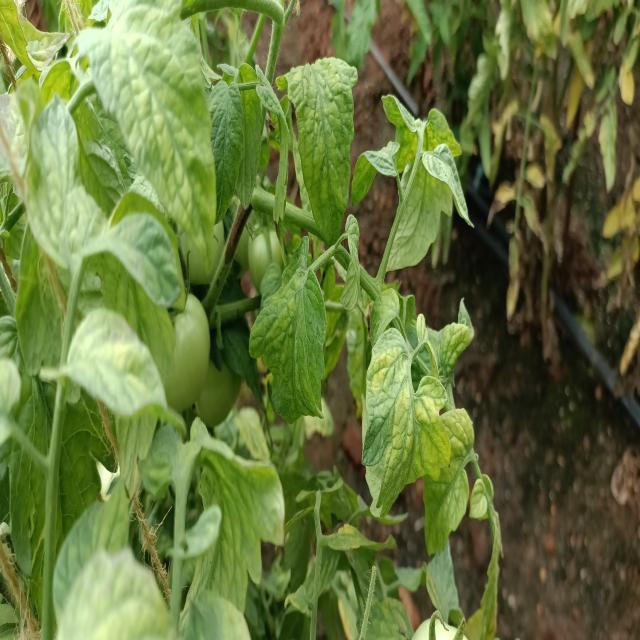Healthy Leaf: (260, 234, 334, 428), (289, 62, 354, 249), (200, 72, 243, 213)
